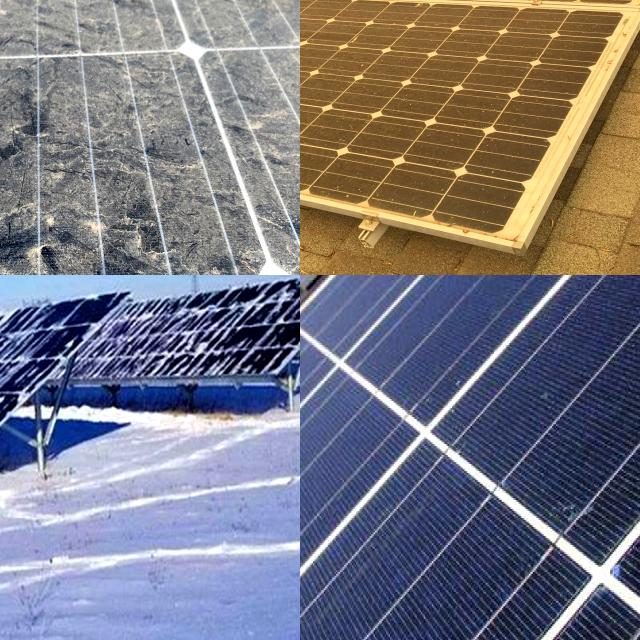crack: (300, 275, 640, 640)
dust: (0, 50, 193, 275), (0, 58, 108, 275), (0, 0, 147, 61), (263, 47, 300, 244), (199, 0, 300, 55), (0, 0, 74, 67), (0, 0, 290, 9), (0, 0, 23, 67)
panel: (195, 293, 258, 369), (115, 310, 173, 376), (0, 314, 64, 370), (0, 378, 56, 434), (267, 295, 300, 375), (0, 327, 52, 362), (0, 337, 40, 374), (0, 389, 43, 420), (0, 386, 42, 413), (0, 343, 25, 376)
